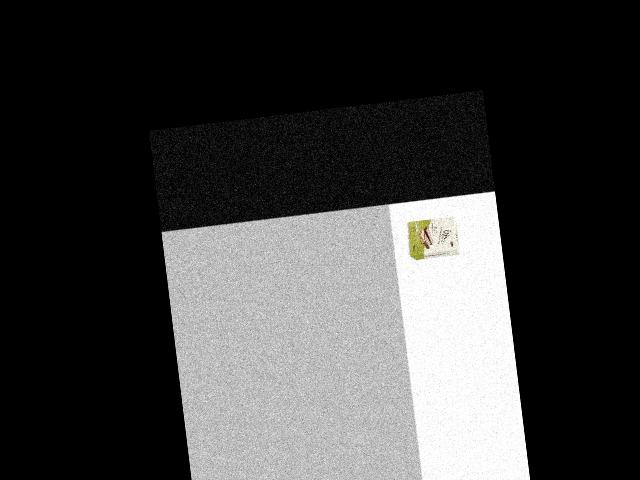chocolate: (404, 215, 461, 263)
